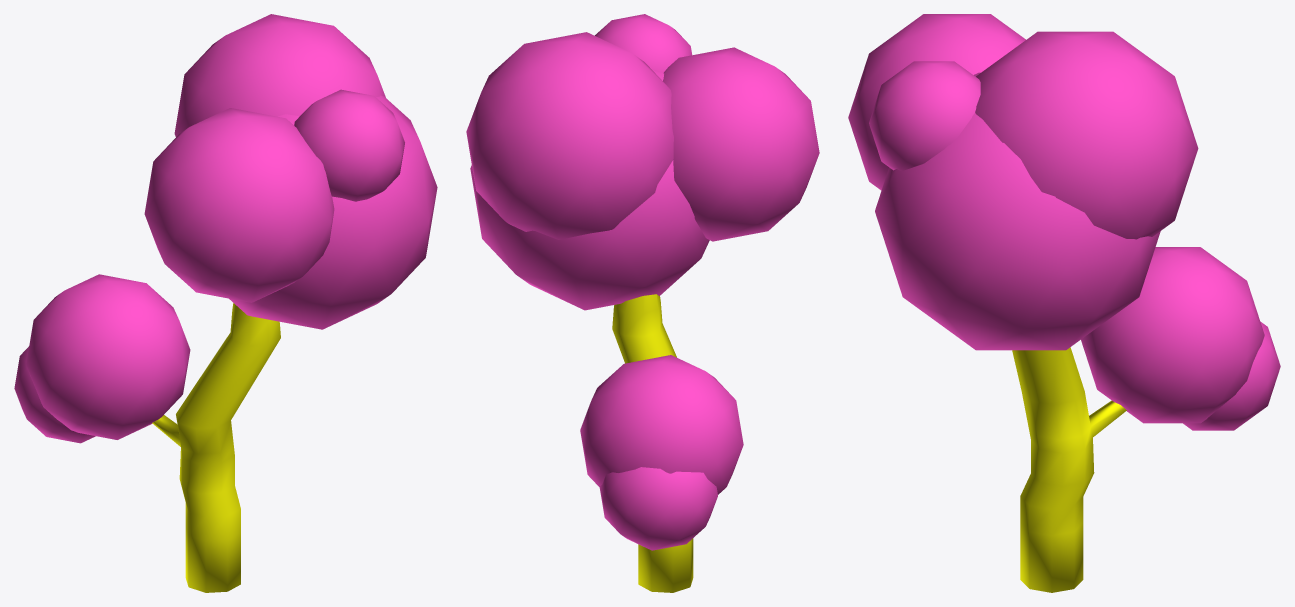
File: agac_2.fbx
3 views of the same model, side by side, from view 1: azimuth 30°, elevation 25°; view 2: azimuth 150°, elevation 25°; view 3: azimuth 270°, elevation 25° (orthographic). The views are drawn at different scales.
Parts seen in each view (by area): view 1: Cylinder.005; view 2: Cylinder.005; view 3: Cylinder.005.
Part boxes in pixels (x1,y1,x2,y2): Cylinder.005: (14,14,437,592); Cylinder.005: (466,14,819,592); Cylinder.005: (848,14,1280,592).
Size of the model in its own units: 733 by 1201 by 803.
